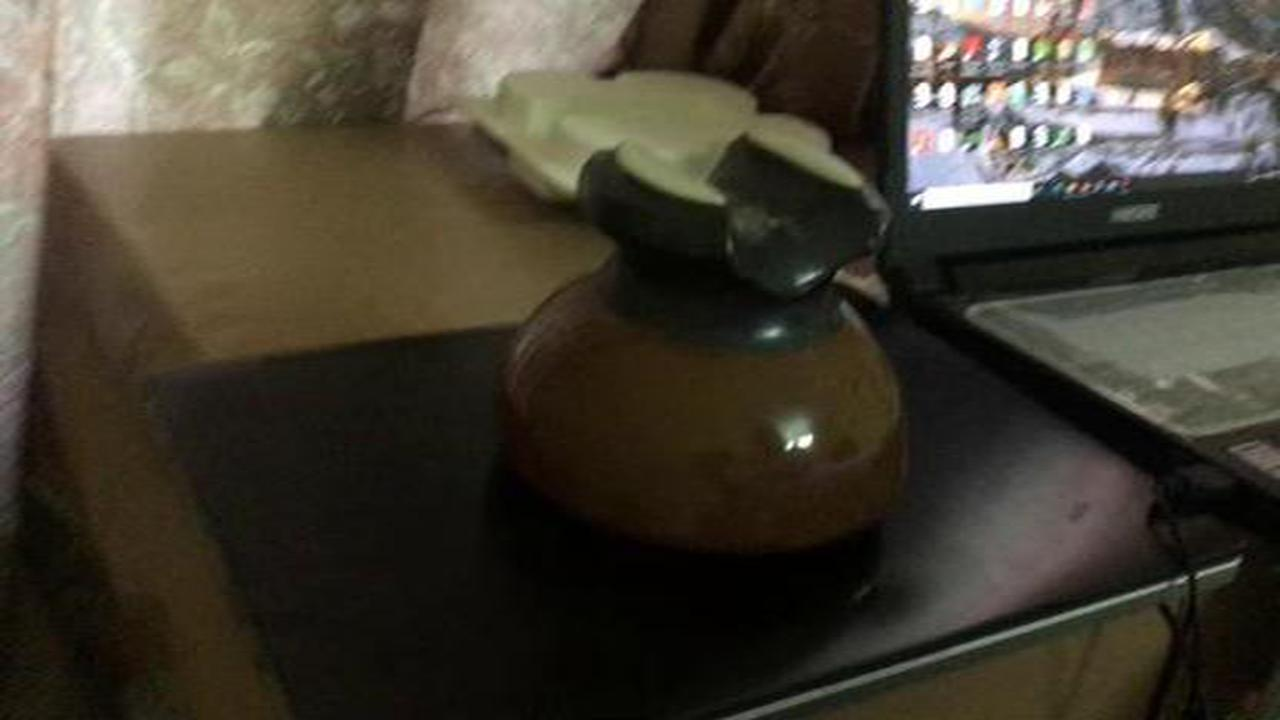insulator_pin: (481, 115, 942, 579)
